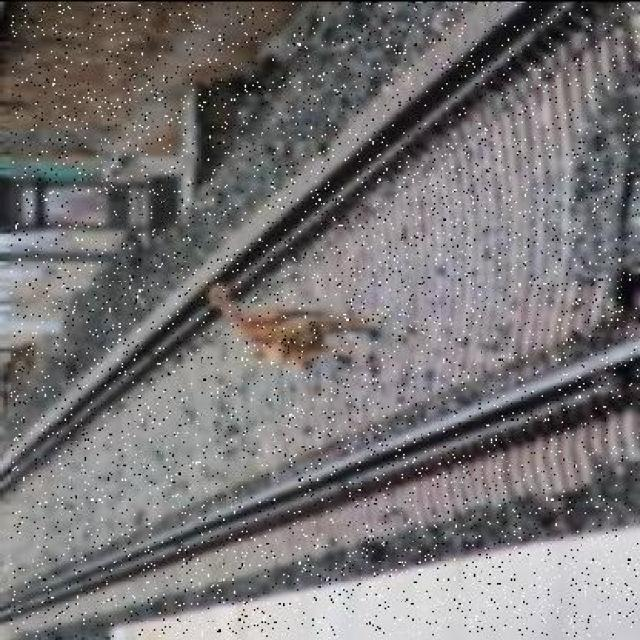danger: (205, 280, 381, 389)
rail: (12, 2, 638, 635)
